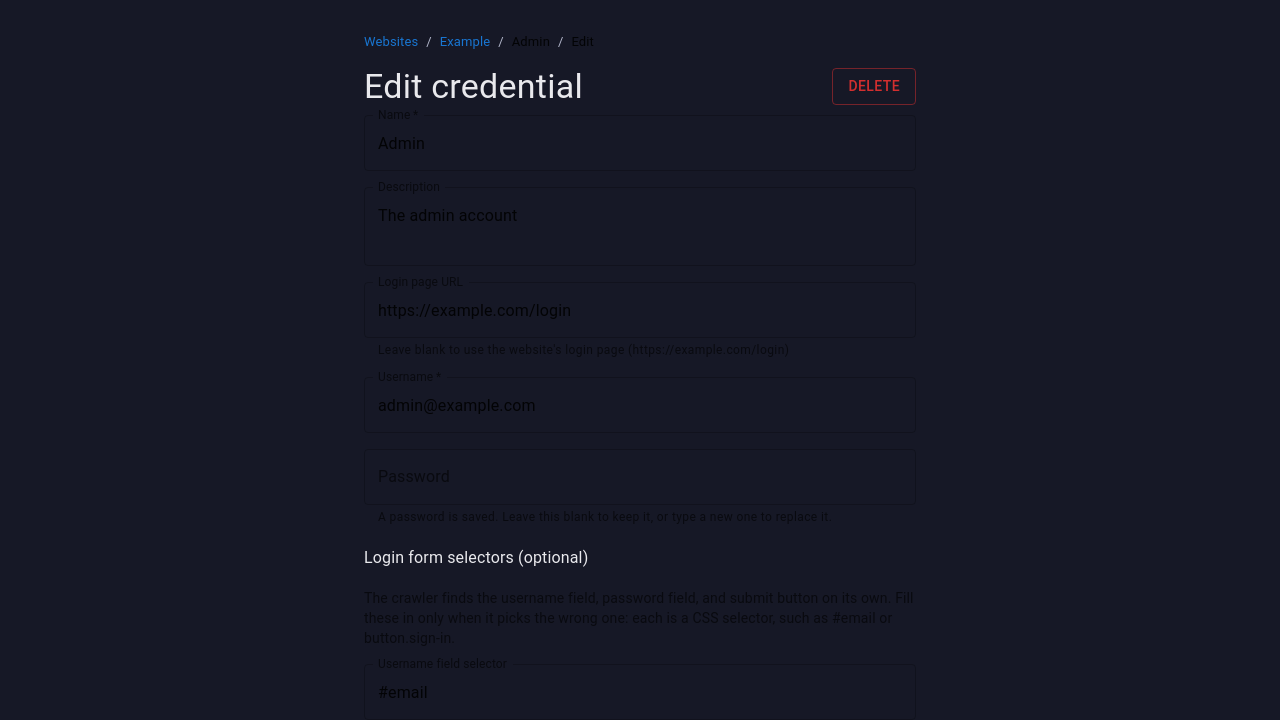
Test: CredentialEditPage › keeps the dialog open with the server's reason when the delete fails
The width and height of the screenshot is (1280, 720).
Click the button "Delete" at (874, 86), box [832,68,916,105]
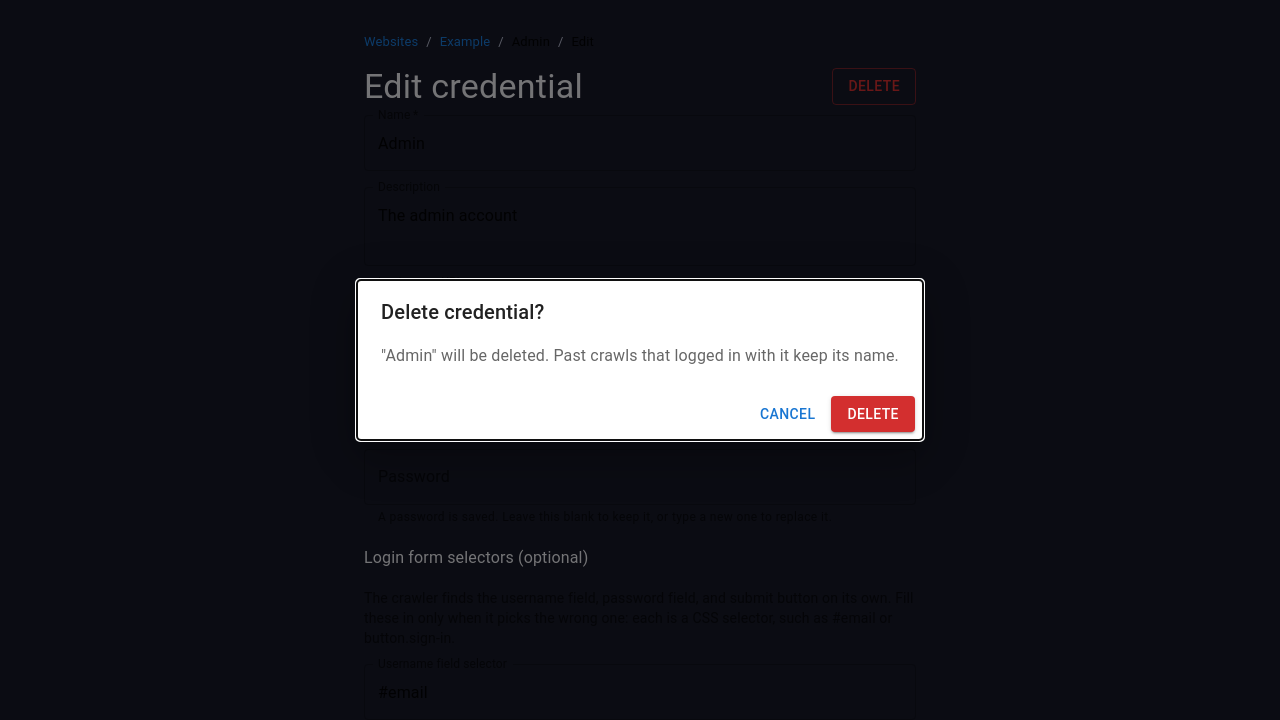
Expected: the dialog "Delete credential?" is shown, [357,280,923,440]
Click the button "Delete" at (873, 414), box [831,396,915,432]
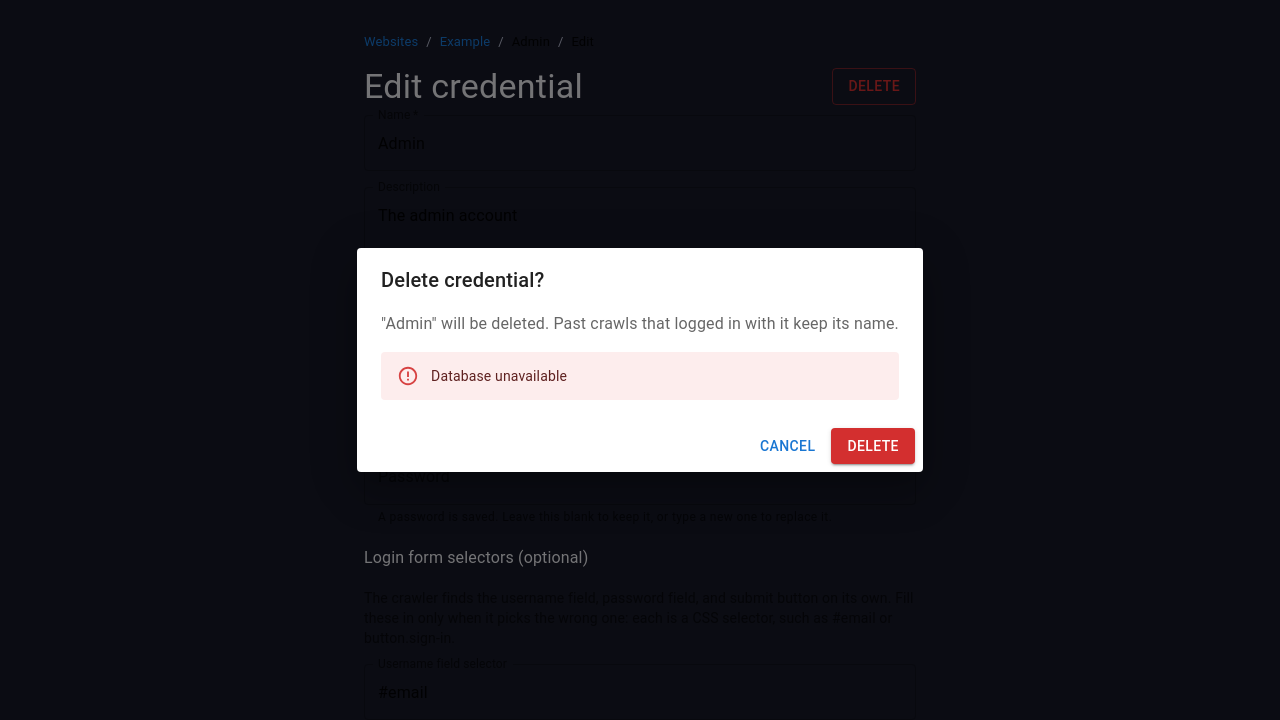
Expected: the dialog "Delete credential?" is shown, [357,248,923,472]
Expected: the message reads "Database unavailable", [431,368,567,384]
